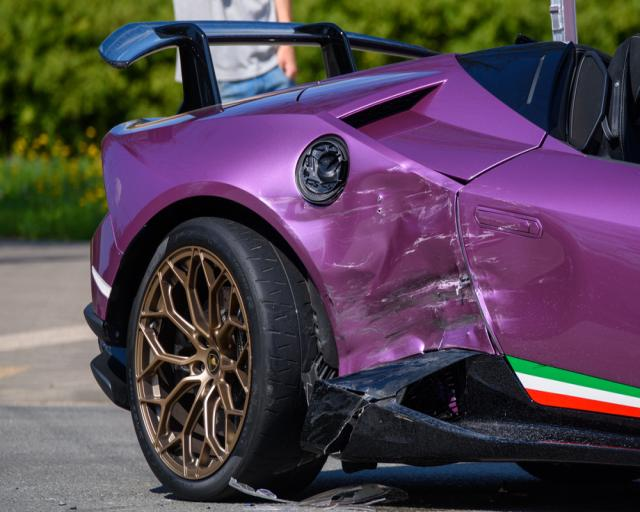crack: (324, 382, 398, 459)
dent: (262, 168, 496, 373), (456, 215, 590, 336)
